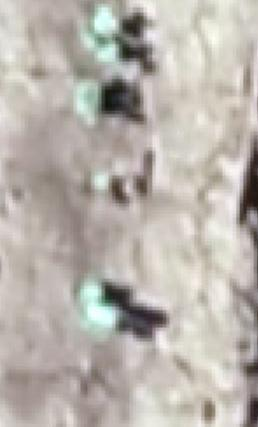cotton: (88, 298, 121, 327), (76, 87, 101, 117), (95, 8, 117, 33), (97, 41, 117, 62), (86, 281, 107, 301), (86, 27, 105, 47)
